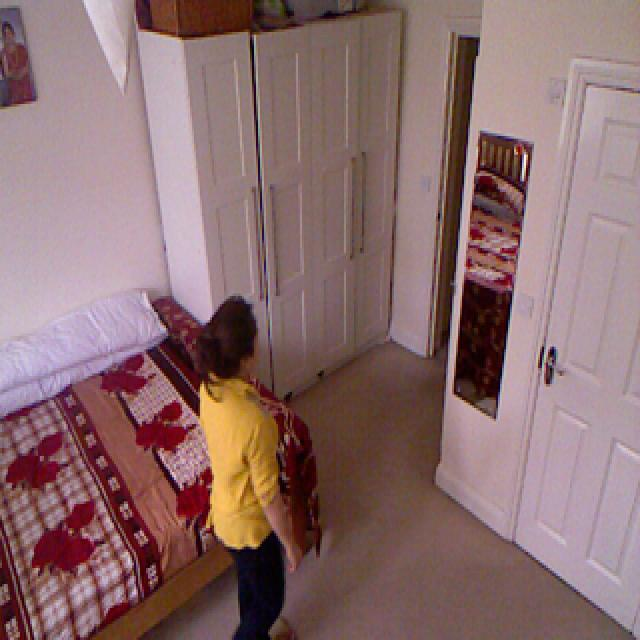standing: (197, 294, 302, 640)
